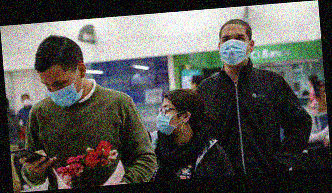with_mask: (41, 76, 83, 112), (218, 32, 251, 67), (155, 102, 186, 136), (22, 95, 31, 108)
